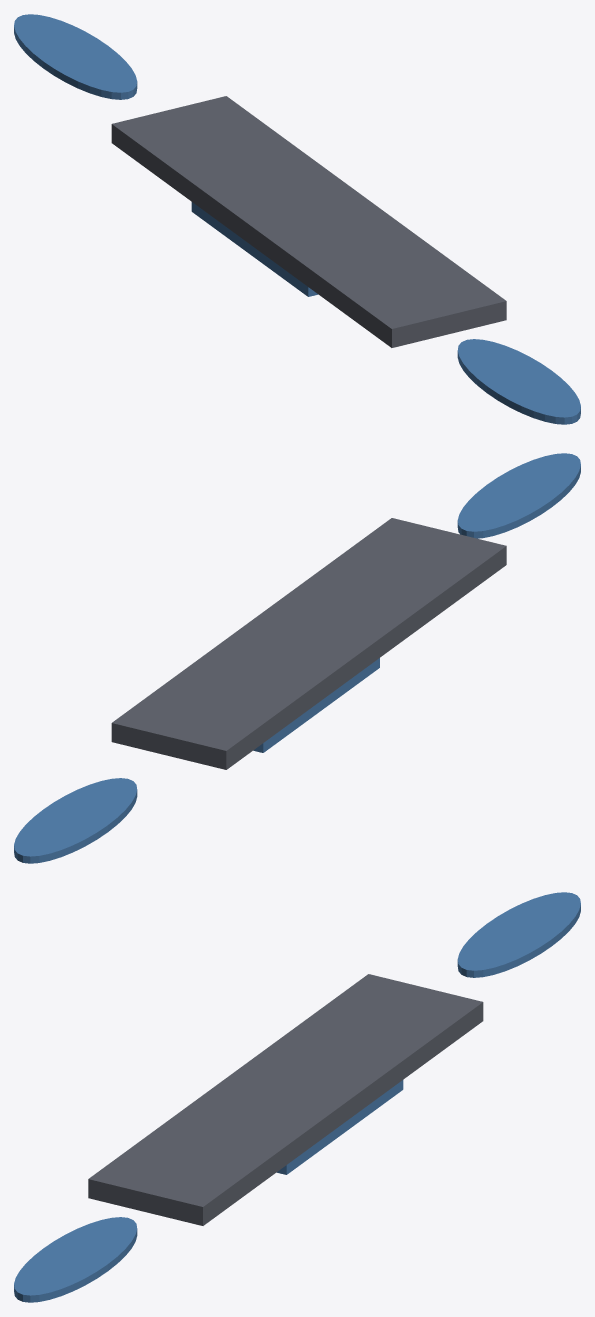
Rendered from AL_ResoluteDestroyer_LOD2.glb.
3 renders of one model, top to bottom at view 1: azimuth 30°, elevation 25°; view 2: azimuth 150°, elevation 25°; view 3: azimuth 330°, elevation 25°, orthographic.
Parts seen in each view (by area): view 1: Cube.001, Cylinder, Cylinder.001, Cube; view 2: Cube.001, Cylinder.001, Cylinder, Cube; view 3: Cube.001, Cylinder, Cylinder.001, Cube.
Part boxes in pixels (x1,y1,x2,y2): Cube.001: (111, 96, 506, 347); Cylinder: (457, 339, 580, 424); Cylinder.001: (14, 14, 137, 99); Cube: (191, 202, 318, 296); Cube.001: (111, 518, 506, 769); Cylinder.001: (14, 778, 137, 863); Cylinder: (457, 453, 580, 538); Cube: (253, 658, 379, 752); Cube.001: (88, 974, 483, 1225); Cylinder: (14, 1217, 137, 1302); Cylinder.001: (457, 892, 580, 977); Cube: (276, 1080, 403, 1174).
Size of what is drawn, in the model's own units: 3.52 by 1.47 by 29.14.
